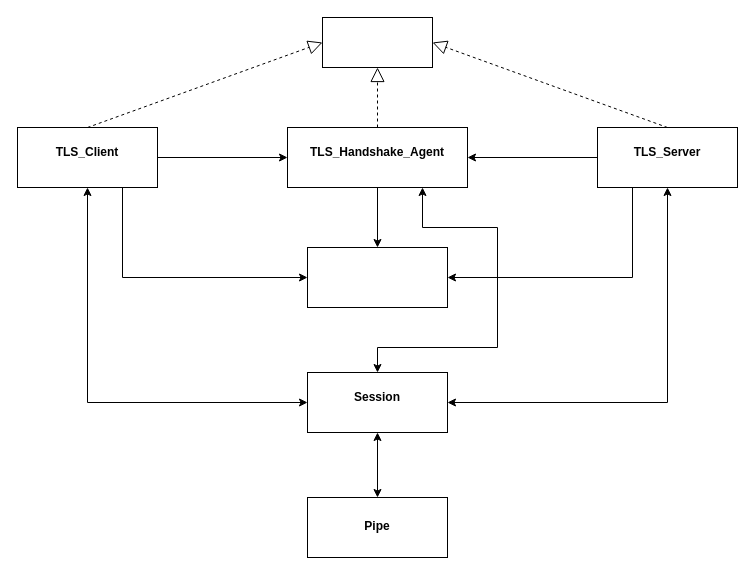
Some shapes in this 755 by 575 pixel diagram are drawn without their labels. Here are the shapes that lost their labels. From the top down, the centre of each, then its label:
At (377,42): "«interface» TLS_Observer".
At (377,277): "Message_Builder".
